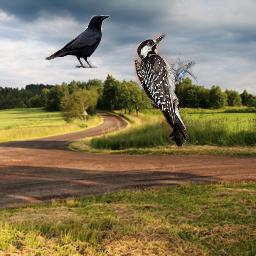Crow: (45, 15, 110, 68)
Woodpecker: (129, 30, 205, 147)
